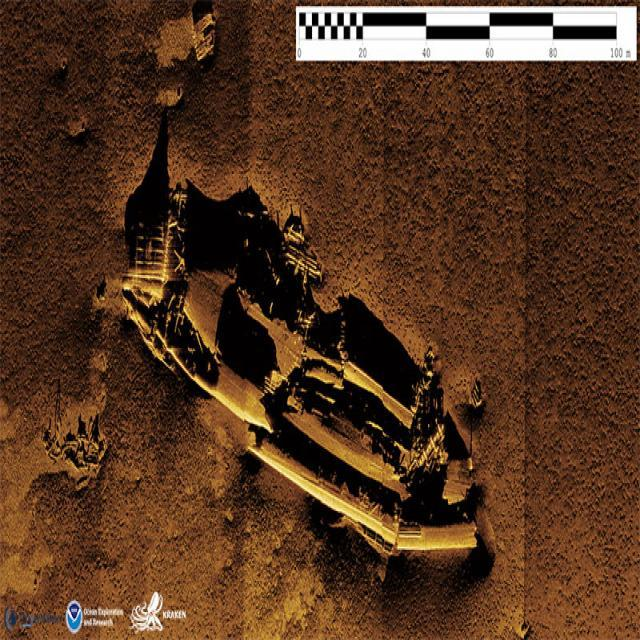shipwreck: (120, 206, 486, 574)
